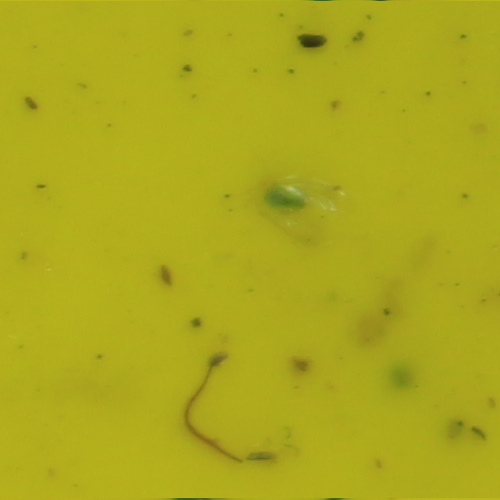psylla: (260, 186, 309, 211)
